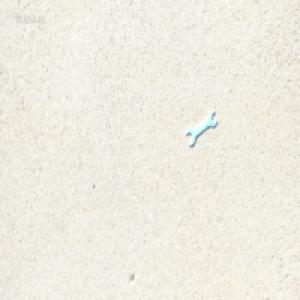Wrench: (186, 111, 216, 146)
